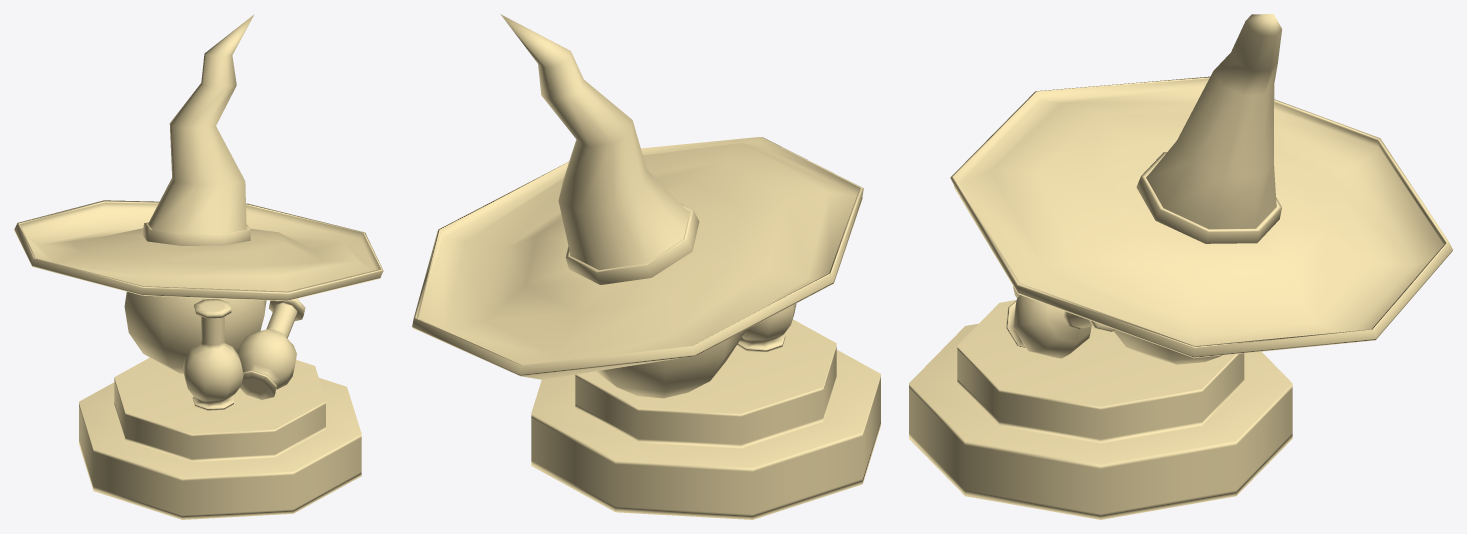
The model's file is Peon_alqui.fbx.
3 views of the same model, side by side, from view 1: azimuth 30°, elevation 25°; view 2: azimuth 150°, elevation 25°; view 3: azimuth 270°, elevation 25° (orthographic). The views are drawn at different scales.
Visible parts, largest first — view 1: Base_Peon1; view 2: Base_Peon1; view 3: Base_Peon1.
Part boxes in pixels (box(x1,y1,x2,y2)): Base_Peon1: box(14, 14, 383, 519); Base_Peon1: box(412, 14, 880, 519); Base_Peon1: box(909, 14, 1452, 519).
Size of the model in its own units: 7.75 by 8.46 by 8.53.
